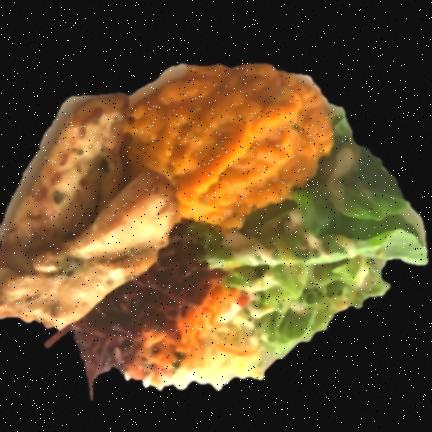beet: (67, 224, 223, 390)
carrot: (129, 282, 239, 386)
chicken: (0, 94, 176, 330)
salad: (207, 116, 427, 357)
